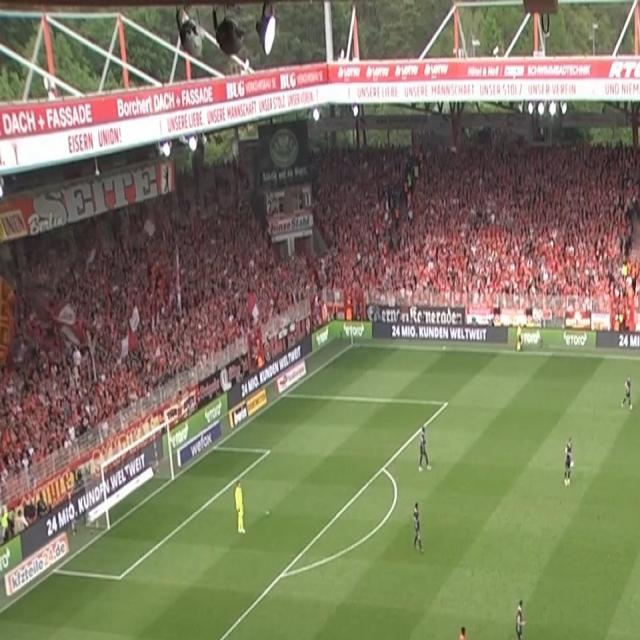ball: (569, 457, 575, 470)
